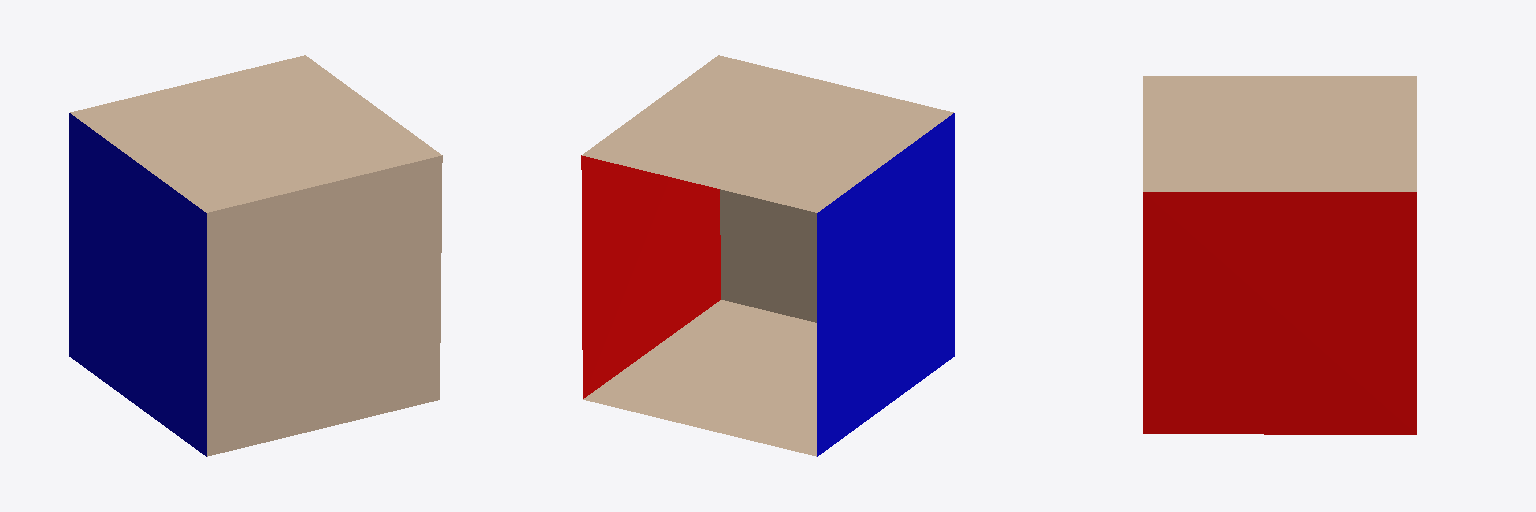
The model's file is cbox-simple.obj.
3 views of the same model, side by side, from view 1: azimuth 30°, elevation 25°; view 2: azimuth 150°, elevation 25°; view 3: azimuth 270°, elevation 25° (orthographic).
Parts seen in each view (by area): view 1: cbox:cbox_back_mesh, cbox:cbox_greenwall_mesh, cbox:cbox_ceiling_mesh; view 2: cbox:cbox_greenwall_mesh, cbox:cbox_ceiling_mesh, cbox:cbox_redwall_mesh, cbox:cbox_floor_mesh, cbox:cbox_back_mesh; view 3: cbox:cbox_redwall_mesh, cbox:cbox_ceiling_mesh.
Boxes of the visible parts, <box> form: cbox:cbox_back_mesh: <box>207,155,442,456</box>; cbox:cbox_greenwall_mesh: <box>69,113,206,456</box>; cbox:cbox_ceiling_mesh: <box>70,55,441,212</box>; cbox:cbox_greenwall_mesh: <box>817,113,954,456</box>; cbox:cbox_ceiling_mesh: <box>582,55,953,212</box>; cbox:cbox_redwall_mesh: <box>581,155,720,398</box>; cbox:cbox_floor_mesh: <box>583,300,816,456</box>; cbox:cbox_back_mesh: <box>720,189,816,322</box>; cbox:cbox_redwall_mesh: <box>1143,192,1416,434</box>; cbox:cbox_ceiling_mesh: <box>1143,76,1416,191</box>.
Bounding box in the file's own units: 556 × 549 × 559.